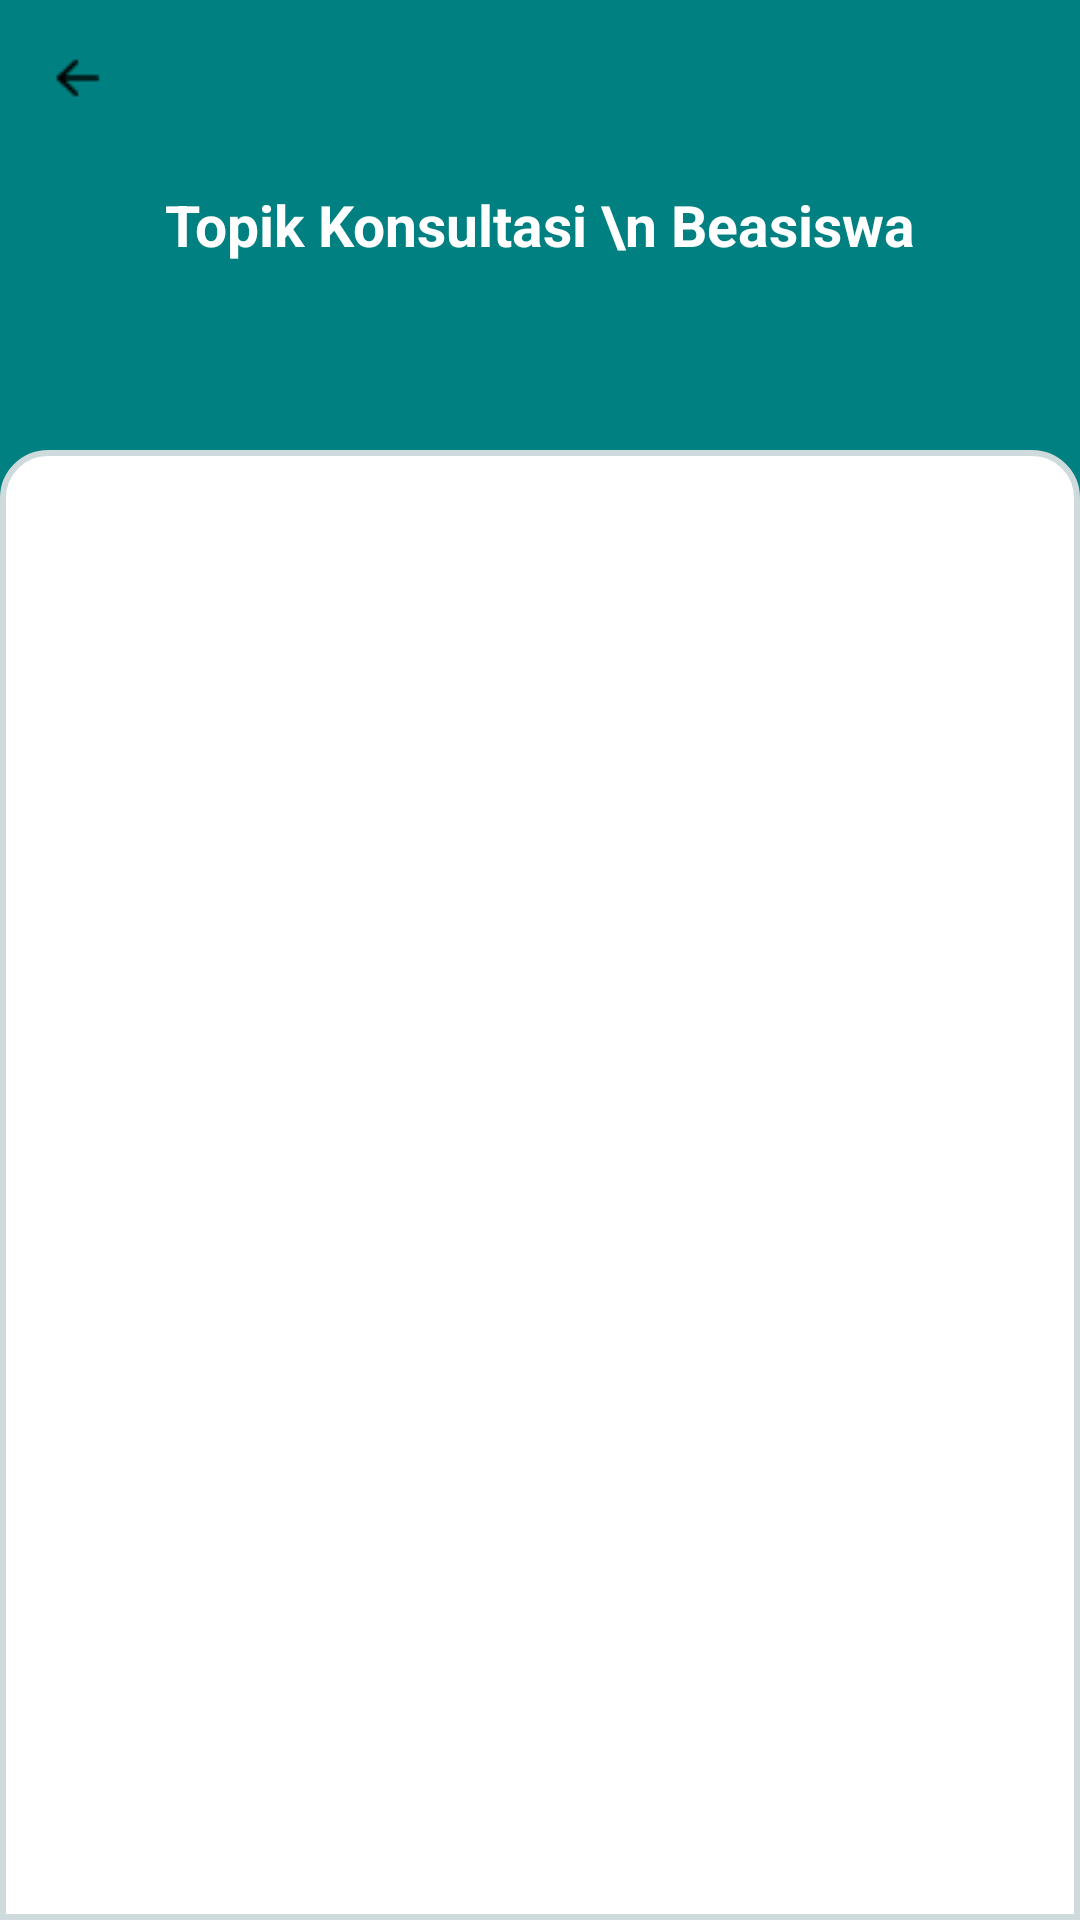

Icon bounding boxes for this 1080*1920 phone screenshot, format bbox(x1, y1, x2, y2):
left: bbox(56, 59, 100, 97)
